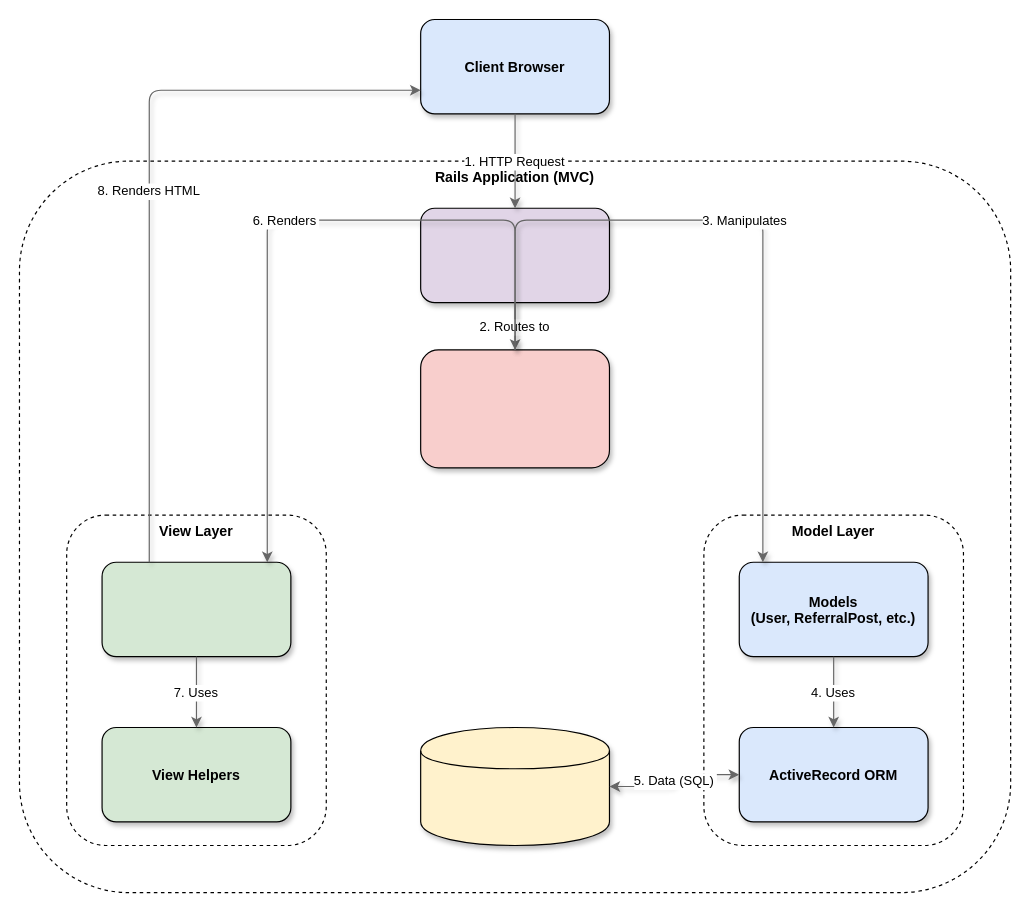
This 1030x912 diagram has some shape labels left out. Each missing label, with the centre of its shape:
"config/routes.rb" goes at point (516, 256).
"Controllers (Users, Sessions, ReferralPosts, etc.)" goes at point (516, 410).
"Database (PostgreSQL / SQLite)" goes at point (516, 788).
"ERB Views (.html.erb)" goes at point (197, 610).
